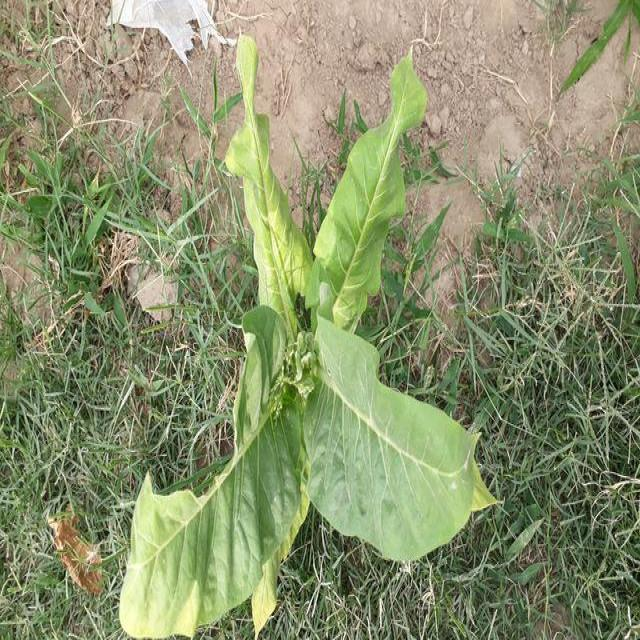crop: (119, 43, 499, 640)
